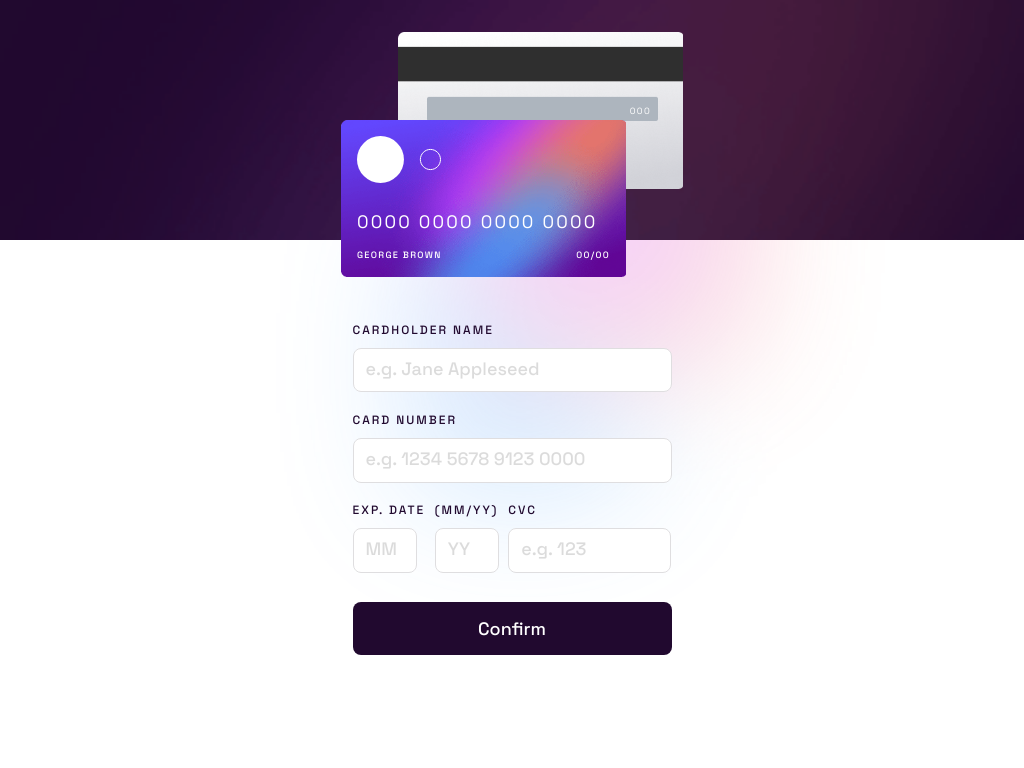
HomePage › should throw form errors when form submitted without filling in the form
The image size is (1024, 768).
Note: User submits the form without data
Click the button "Confirm" at x=512, y=628, box [352,602,672,655]
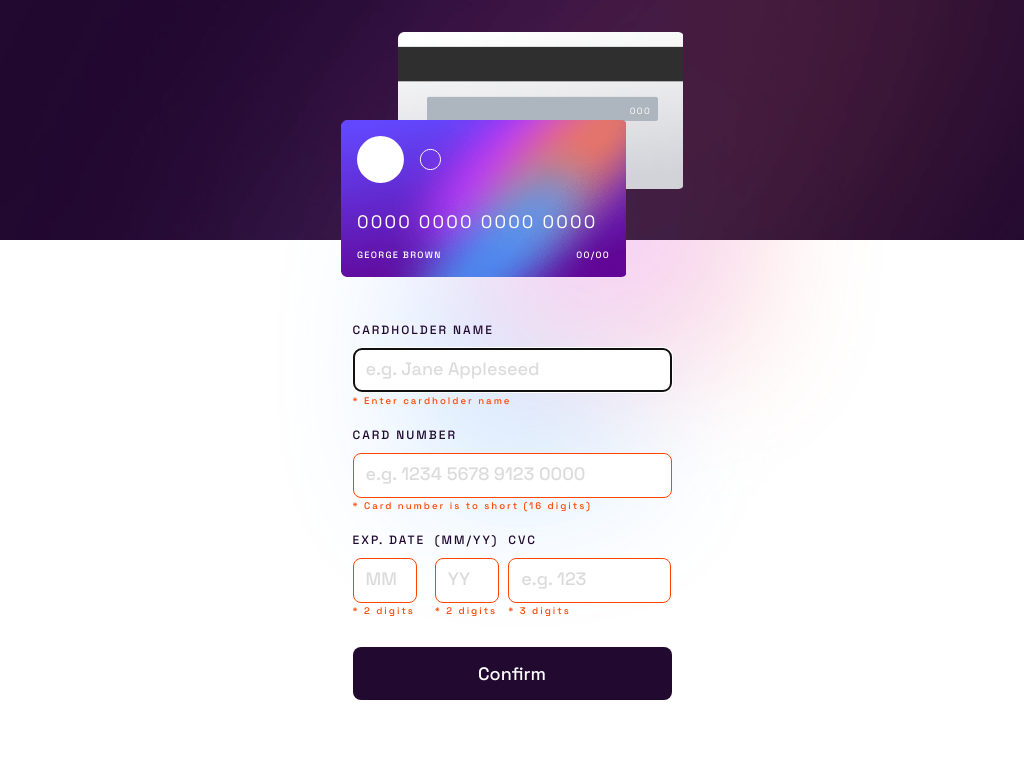
Result: the text "* Enter cardholder name" is shown at [352,395,512,407]
Result: the text "* Card number is to short (16 digits)" is shown at [352,500,592,512]
Result: the text "* 2 digits" is shown 2 times at [352,604,425,619]; [435,604,499,619]
